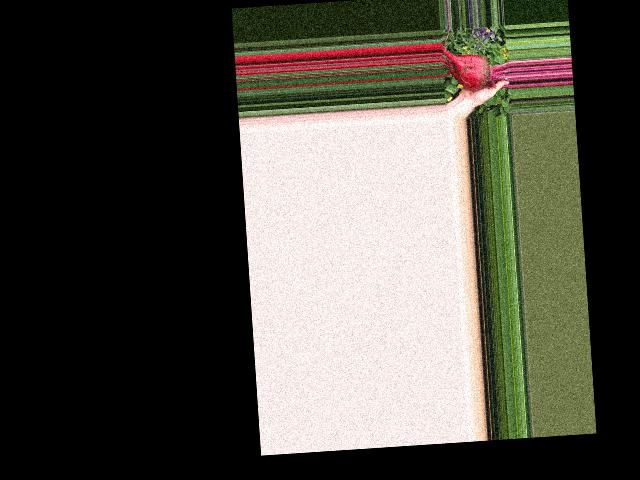beet: (440, 39, 510, 92)
